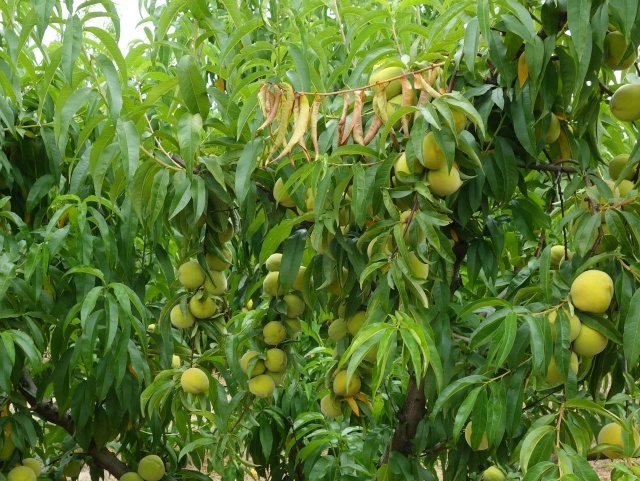peach: (567, 267, 618, 318), (595, 415, 638, 461), (409, 131, 452, 174), (598, 27, 638, 73), (538, 307, 585, 345), (541, 347, 583, 389), (422, 158, 464, 199), (571, 318, 611, 359), (366, 63, 408, 102), (605, 80, 640, 126), (393, 208, 431, 250), (531, 107, 565, 150), (460, 414, 492, 456), (390, 147, 421, 189), (178, 365, 213, 401), (380, 90, 413, 128), (269, 171, 300, 211), (328, 366, 364, 400), (174, 258, 208, 293), (165, 298, 199, 332), (237, 346, 270, 378), (186, 292, 220, 323), (607, 150, 637, 185), (304, 224, 335, 257), (316, 390, 349, 421), (198, 266, 230, 296), (246, 371, 277, 401), (260, 346, 290, 377), (545, 243, 576, 273), (206, 242, 237, 271), (209, 218, 240, 247), (259, 318, 290, 347), (259, 268, 289, 297), (136, 454, 168, 481), (289, 262, 315, 295), (323, 314, 351, 344), (345, 307, 375, 335), (278, 290, 306, 317), (262, 251, 290, 278), (276, 312, 304, 335), (4, 464, 40, 481), (13, 456, 45, 475), (59, 458, 83, 480)
